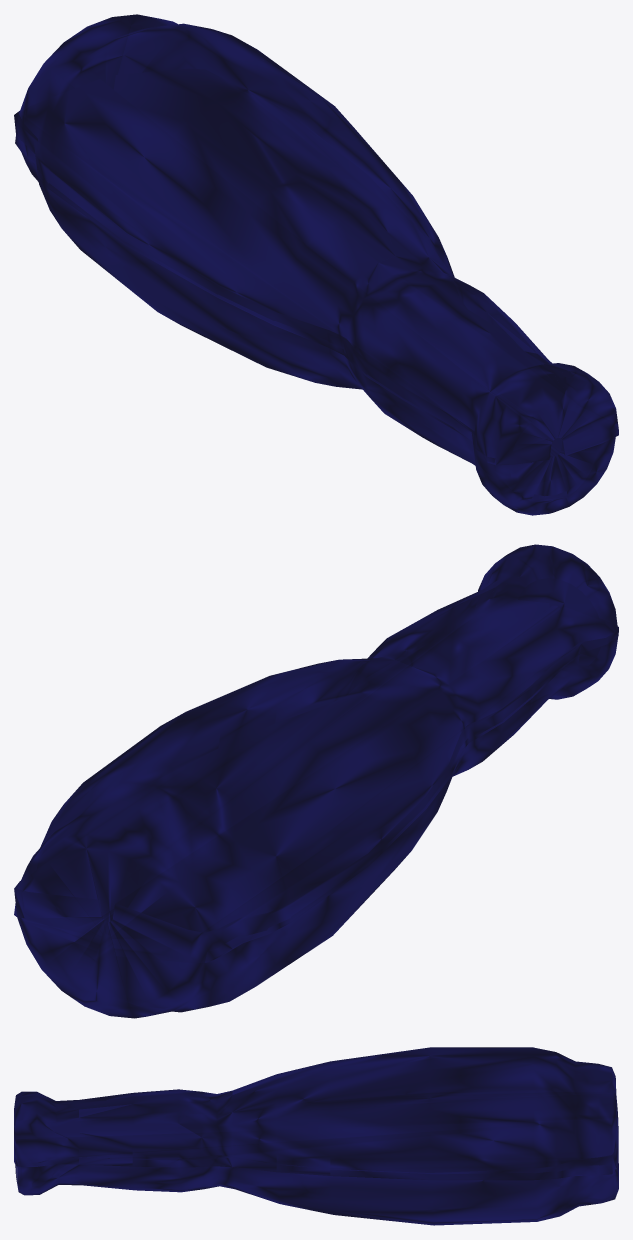
The model's file is model_align.obj.
3 renders of one model, top to bottom at view 1: azimuth 30°, elevation 25°; view 2: azimuth 150°, elevation 25°; view 3: azimuth 270°, elevation 25°, orthographic. The views are drawn at different scales.
Size of the model in its own units: 0.0806 by 0.0755 by 0.257.
